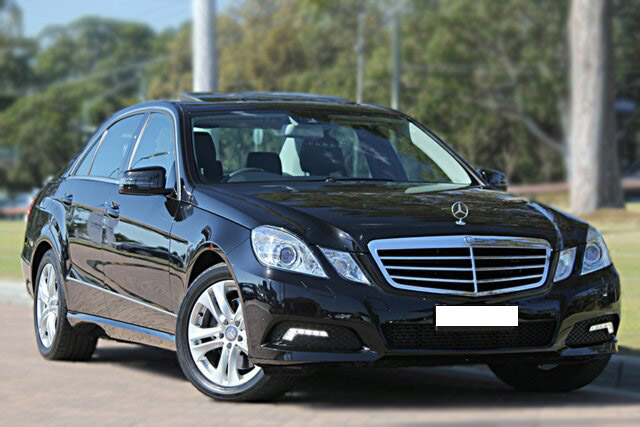sedan: (20, 93, 623, 404)
